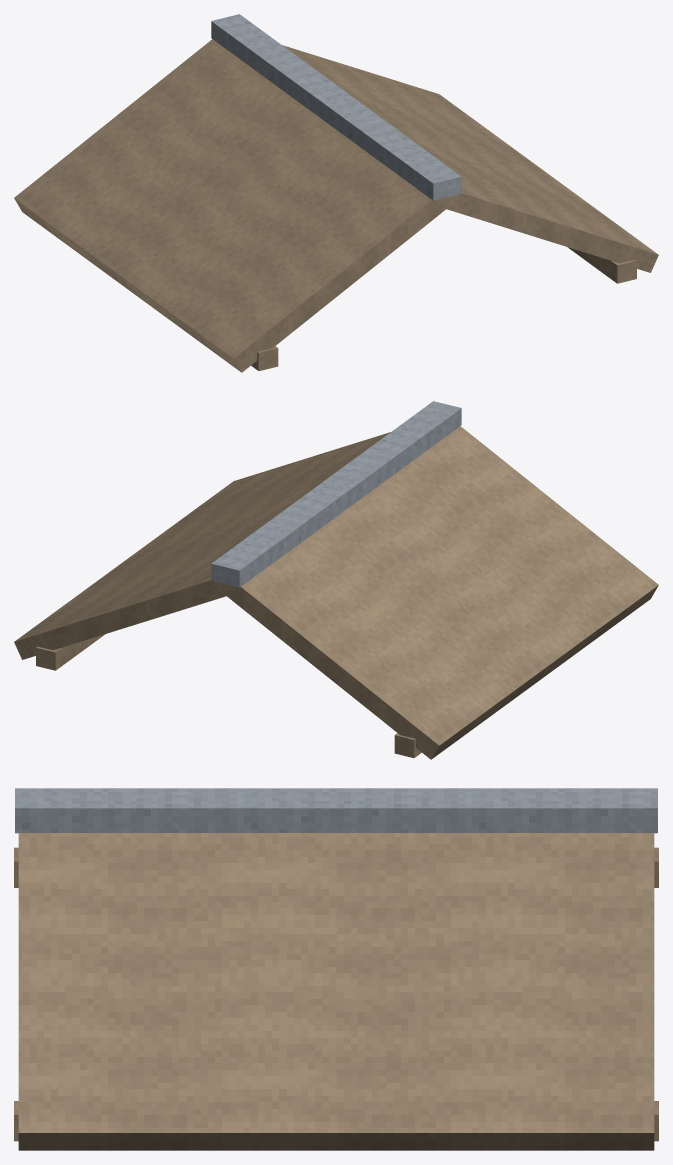
The model's file is level_blockout_domestic_pitched_roof_module.glb.
The picture shows the model from 3 angles, top to bottom: view 1: azimuth 30°, elevation 25°; view 2: azimuth 150°, elevation 25°; view 3: azimuth 270°, elevation 25°; orthographic projection. The views are drawn at different scales.
Visible parts, largest first — view 1: level_blockout_domestic_pitched_roof_module; view 2: level_blockout_domestic_pitched_roof_module; view 3: level_blockout_domestic_pitched_roof_module.
Part boxes in pixels (x1,y1,x2,y2): level_blockout_domestic_pitched_roof_module: (14,14,658,372); level_blockout_domestic_pitched_roof_module: (14,401,658,759); level_blockout_domestic_pitched_roof_module: (14,788,658,1150).
Size of the model in its own units: 3.89 by 1.26 by 3.53.
Materials: 2 (2 with a texture image).
